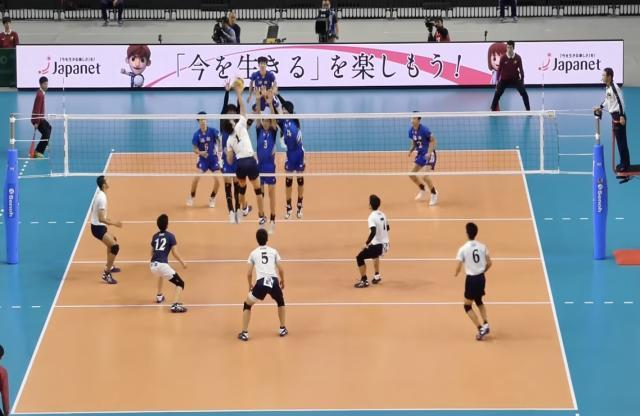spike: (221, 76, 270, 228)
